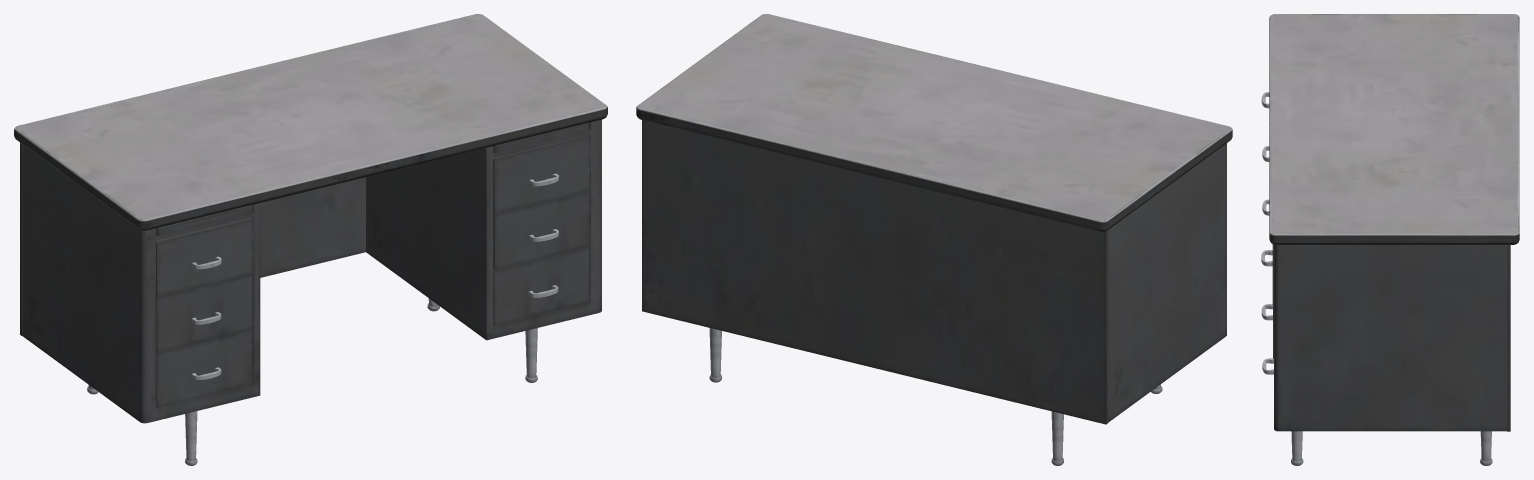
Rendered from item-85.glb.
3 views of the same model, side by side, from view 1: azimuth 30°, elevation 25°; view 2: azimuth 150°, elevation 25°; view 3: azimuth 270°, elevation 25° (orthographic). The views are drawn at different scales.
Visible parts, largest first — view 1: metal_office_desk, metal_office_desk_drawer_04, metal_office_desk_drawer_01, metal_office_desk_drawer_03, metal_office_desk_drawer_02, metal_office_desk_drawer_06, metal_office_desk_drawer_05, metal_office_desk_tray_01, metal_office_desk_tray_02; view 2: metal_office_desk; view 3: metal_office_desk.
Boxes of the visible parts, x1,y1,x2,y2 form: metal_office_desk: (14, 14, 607, 465); metal_office_desk_drawer_04: (156, 217, 253, 297); metal_office_desk_drawer_01: (493, 135, 590, 214); metal_office_desk_drawer_03: (493, 247, 590, 325); metal_office_desk_drawer_02: (493, 191, 590, 269); metal_office_desk_drawer_06: (156, 329, 253, 408); metal_office_desk_drawer_05: (156, 274, 253, 352); metal_office_desk_tray_01: (156, 205, 252, 235); metal_office_desk_tray_02: (493, 122, 589, 153); metal_office_desk: (636, 14, 1232, 465); metal_office_desk: (1269, 14, 1519, 465).
Size of the model in its own units: 1.44 by 0.7874 by 0.7104.
Materials: 1 (1 with a texture image).
